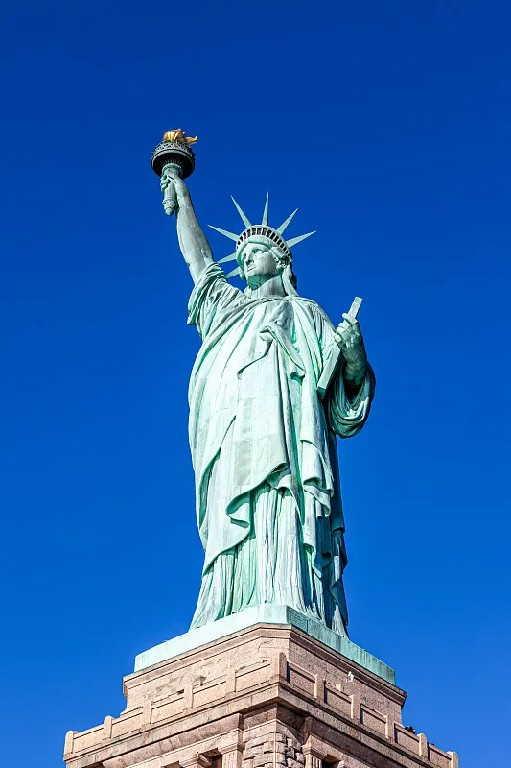SL: (64, 126, 458, 768)
